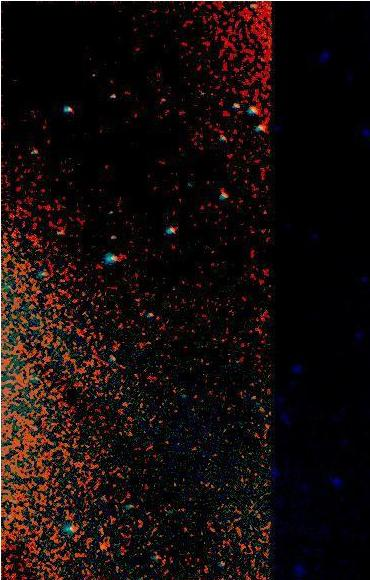star: (85, 531, 115, 561)
